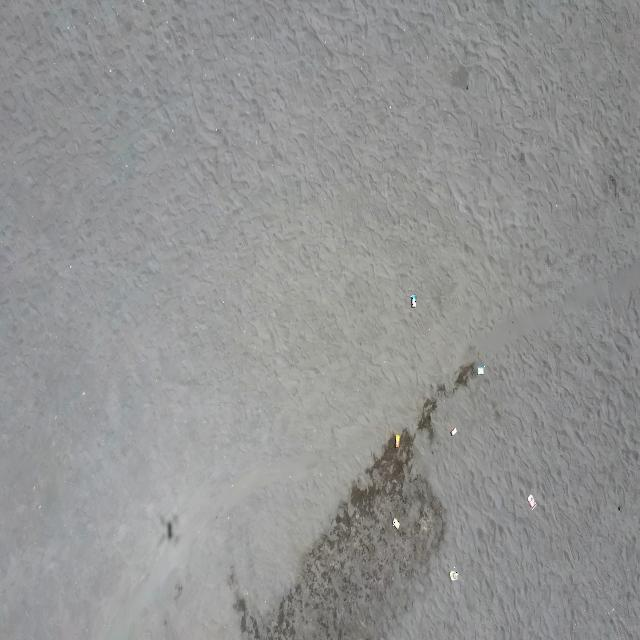Garbage: (448, 568, 457, 580), (527, 495, 535, 508), (409, 293, 415, 307), (392, 517, 399, 528), (476, 364, 484, 373), (395, 433, 400, 447), (449, 426, 455, 435)
